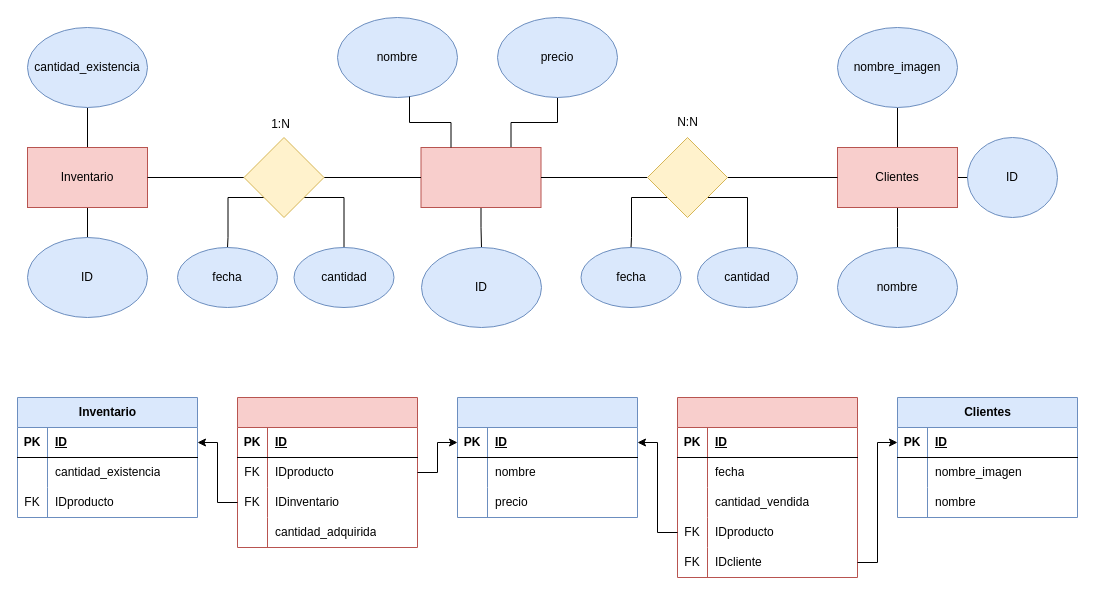
Image size: 1095x595. Some labels were removed from this diagram. Each missing label, with the box of its shape:
Compran: (646, 136, 728, 218)
Compras: (676, 396, 858, 578)
Producto: (420, 146, 541, 208)
Productos: (456, 396, 638, 518)
Registro: (243, 136, 324, 218)
Registro_inventario: (236, 396, 418, 548)
